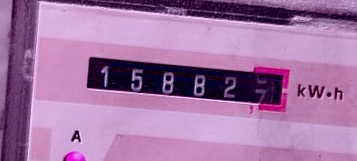1: (97, 62, 111, 89)
2: (220, 73, 239, 100)
5: (128, 66, 144, 93)
7: (251, 85, 268, 104)
8: (159, 68, 177, 95), (190, 72, 208, 98)
screen: (75, 44, 298, 121)
